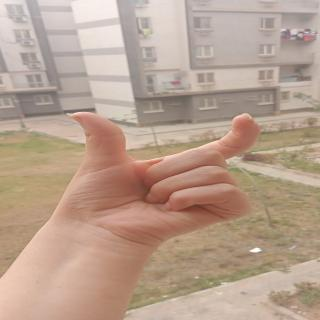NOON: (52, 102, 265, 243)
